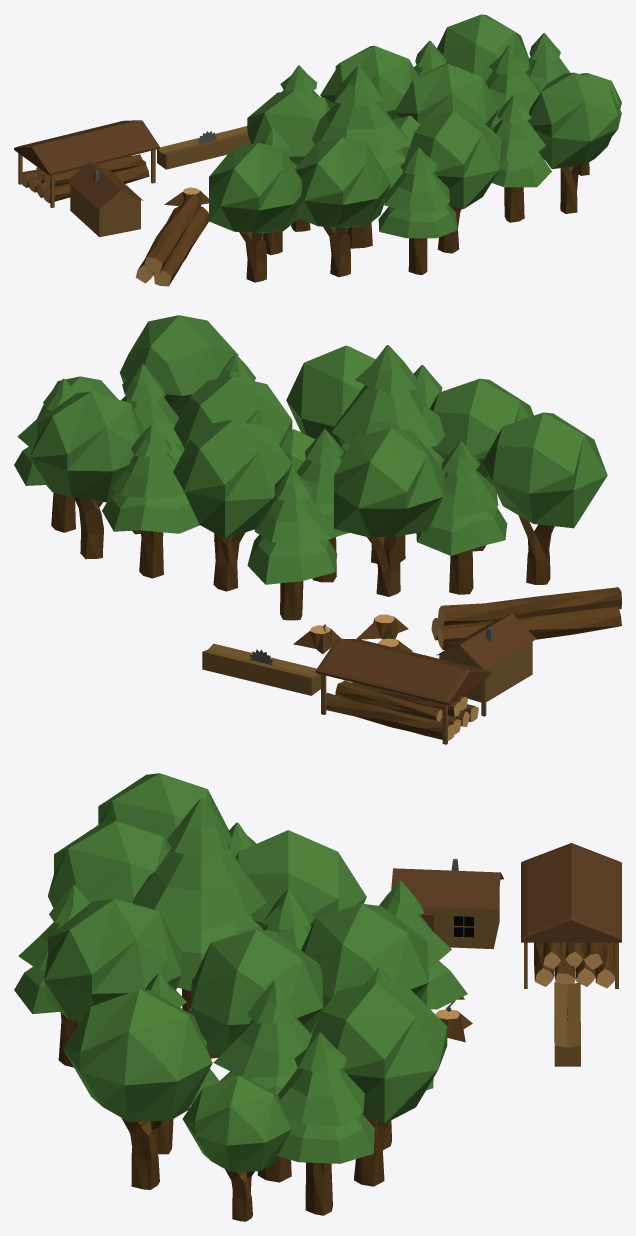
The model's file is Forrest_3_0.fbx_Scene.fbx.
3 views of the same model, one above another, from view 1: azimuth 30°, elevation 25°; view 2: azimuth 150°, elevation 25°; view 3: azimuth 270°, elevation 25° (orthographic). The views are drawn at different scales.
Parts seen in each view (by area): view 1: Laub.001, Laub.002, Laub.006, Laub.003, Tanne, Tanne.003, Storgae, Tanne.004, Laub.007, Housing, Laub, Laub.009 (+18 smaller); view 2: Laub.001, Laub, Laub.008, Laub.009, Tanne.008, Tanne.006, Storgae, Tanne.002, Laub.006, Tanne, Laub.002, Laub.003 (+20 smaller); view 3: Laub.006, Laub.009, Tanne, Laub.003, Laub.007, Tanne.005, Storgae, Laub.008, Laub.005, Laub, Laub.002, Tanne.007 (+12 smaller).
Part boxes in pixels (x1,y1,x2,y2): Laub.001: (209,143,302,233); Laub.002: (295,137,391,227); Laub.006: (528,72,621,169); Laub.003: (405,110,502,208); Tanne: (311,65,410,248); Tanne.003: (378,147,457,274); Storgae: (14,120,159,207); Tanne.004: (492,95,551,222); Laub.007: (393,63,499,127); Housing: (67,161,143,237); Laub: (247,90,330,164); Laub.009: (437,14,529,81); Laub.001: (482,412,607,528); Laub: (334,428,445,537); Laub.008: (173,419,291,538); Laub.009: (30,391,145,502); Tanne.008: (247,467,337,620); Tanne.006: (102,424,199,578); Storgae: (315,638,491,744); Tanne.002: (416,441,507,594); Laub.006: (119,315,238,417); Tanne: (331,345,444,563); Laub.002: (430,378,533,485); Laub.003: (286,345,375,442); Laub.006: (63,989,212,1121); Laub.009: (307,982,447,1123); Tanne: (132,798,266,1058); Laub.003: (44,899,181,1022); Laub.007: (191,929,323,1056); Tanne.005: (277,1032,374,1215); Storgae: (521,843,621,988); Laub.008: (301,903,428,1008); Laub.005: (182,1075,291,1172); Laub: (235,830,366,928); Laub.002: (48,821,170,907); Tanne.007: (213,980,311,1182).
Bounding box in the file's own units: 1596 × 564 × 1220.
